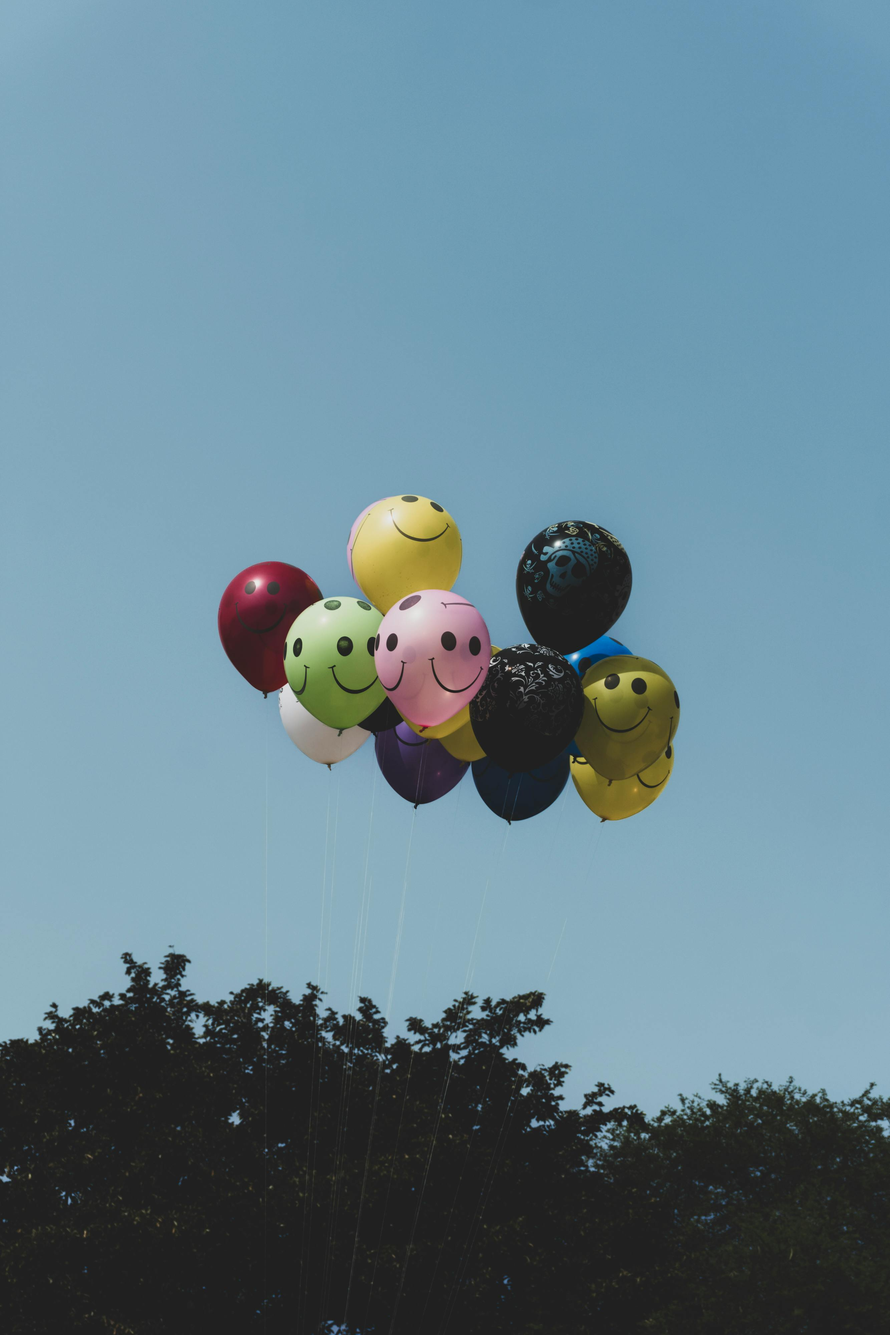balloon: (516, 521, 632, 655), (374, 590, 490, 723), (470, 644, 584, 771), (218, 562, 322, 697), (283, 596, 385, 730), (348, 495, 462, 614), (576, 656, 679, 781), (375, 724, 468, 806), (279, 685, 369, 769), (571, 747, 673, 820), (471, 753, 570, 824), (567, 636, 632, 678)
